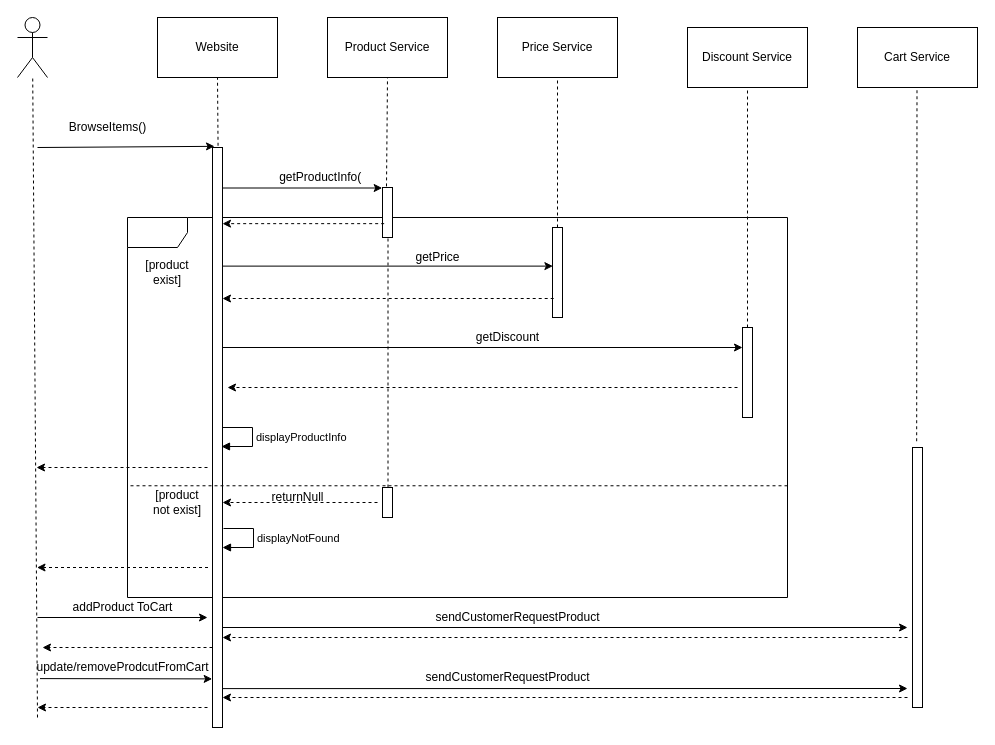
The diagram is 995 pixels wide and 745 high, and some of its shapes have lost their labels. Here are the shapes that lost their labels. From the top down, the box of each, then its label:
(16, 16, 48, 78): Actor
(126, 216, 788, 598): alt
